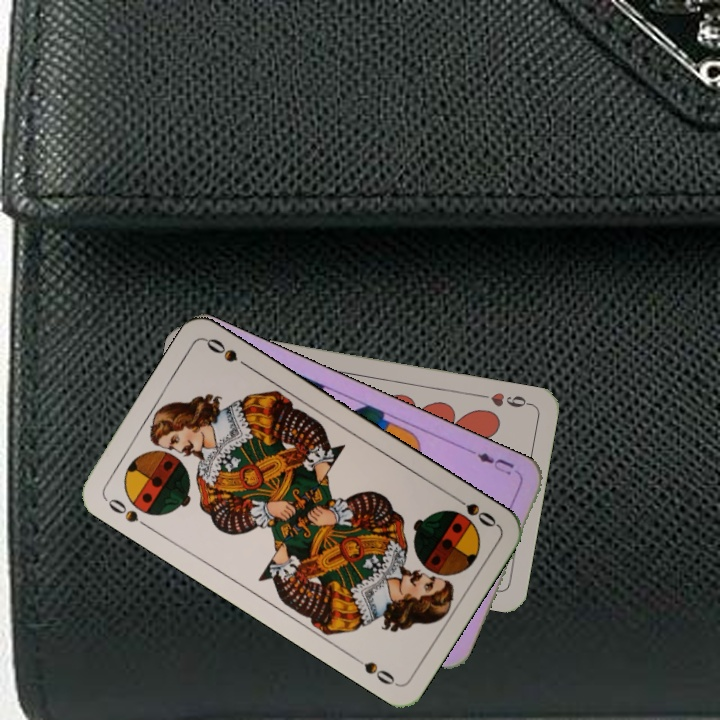EU: (473, 448, 517, 478)
H9: (475, 388, 534, 410)
SO: (448, 490, 500, 530), (101, 494, 154, 532)
